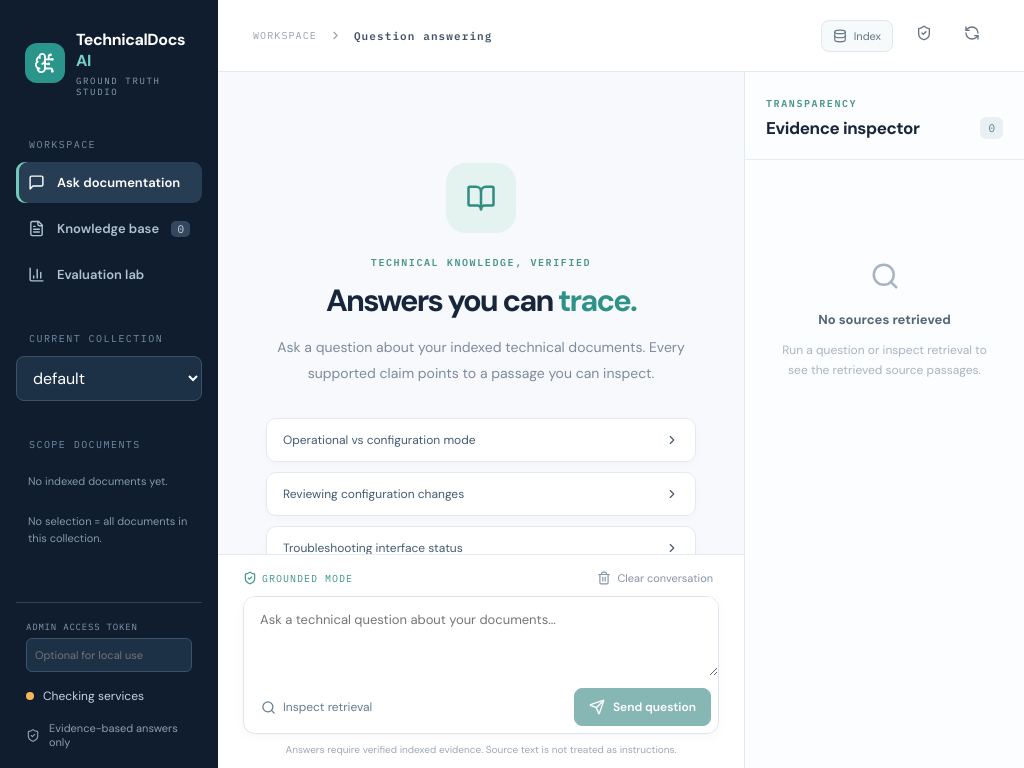
API-connected interaction contract › shows a validated citation from API response and opens its excerpt
This screenshot has width=1024, height=768.
Type "Which command is used?" into the text box labelled "question" at (481, 636), box [244, 597, 718, 676]
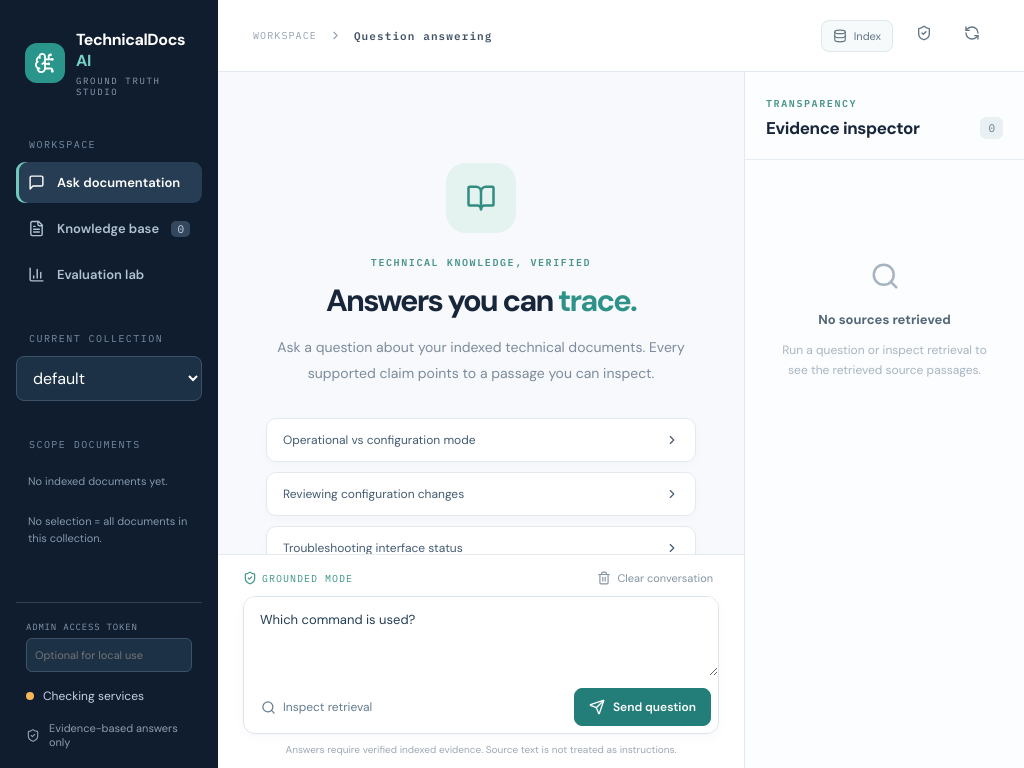
Click the button "Send question" at (642, 707), box [574, 688, 711, 726]
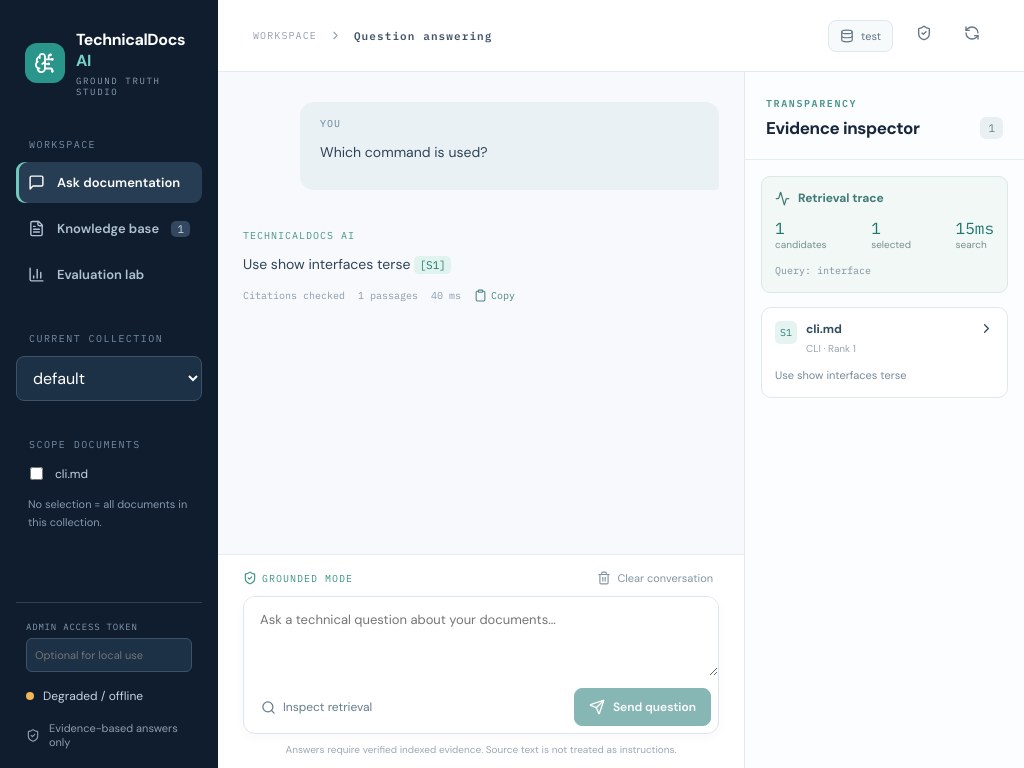
Result: the button "[S1]" is shown
Click the button "[S1]" at (433, 264), box [414, 256, 451, 274]
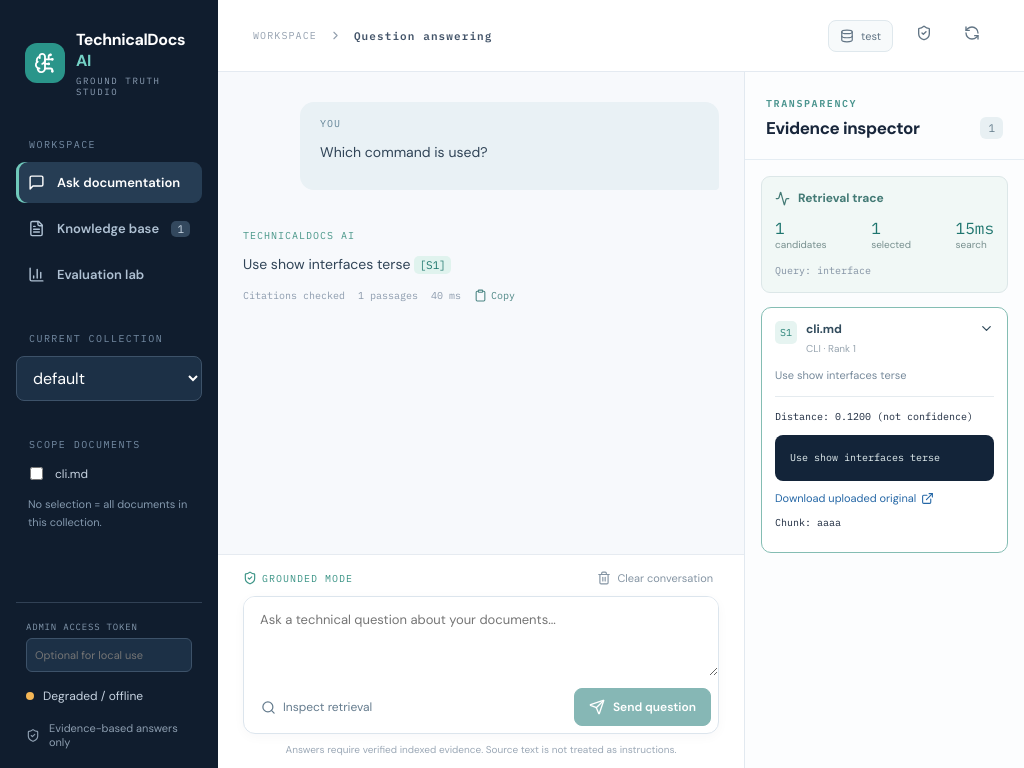
Result: the text "Distance: 0.1200 (not confidence)" is shown at [775, 409, 994, 425]
